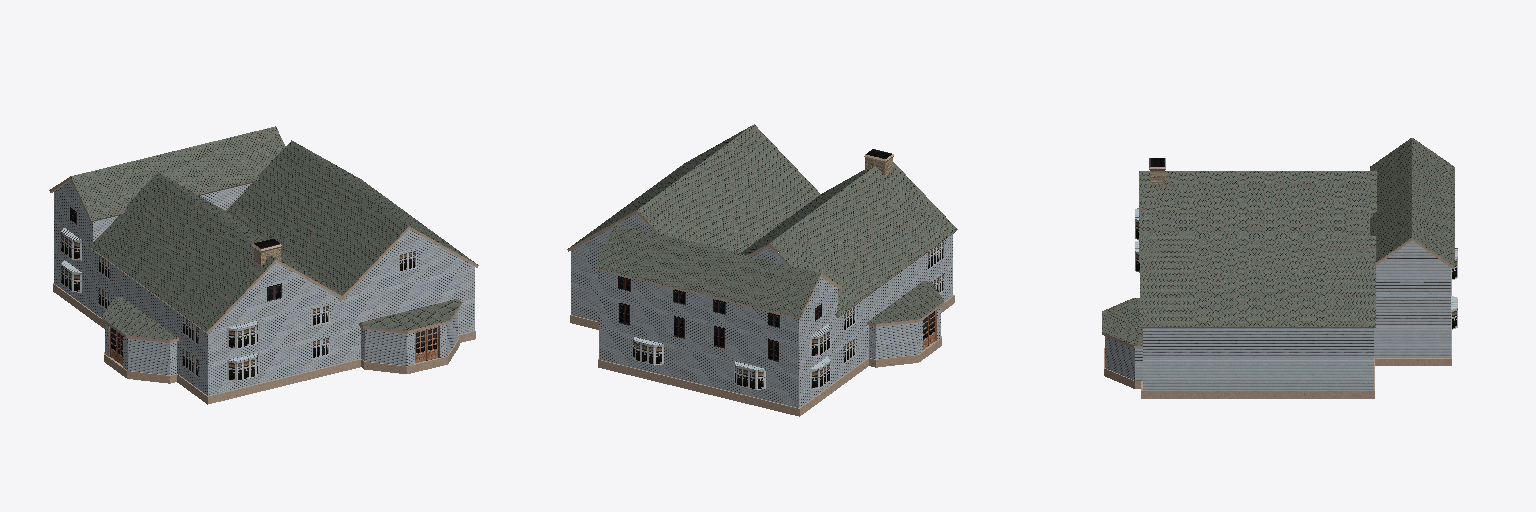
3 renders of one model, left to right at view 1: azimuth 30°, elevation 25°; view 2: azimuth 150°, elevation 25°; view 3: azimuth 270°, elevation 25°, orthographic.
Size of the model in its own units: 32.17 by 13.89 by 32.41.
Materials: 1 (1 with a texture image).